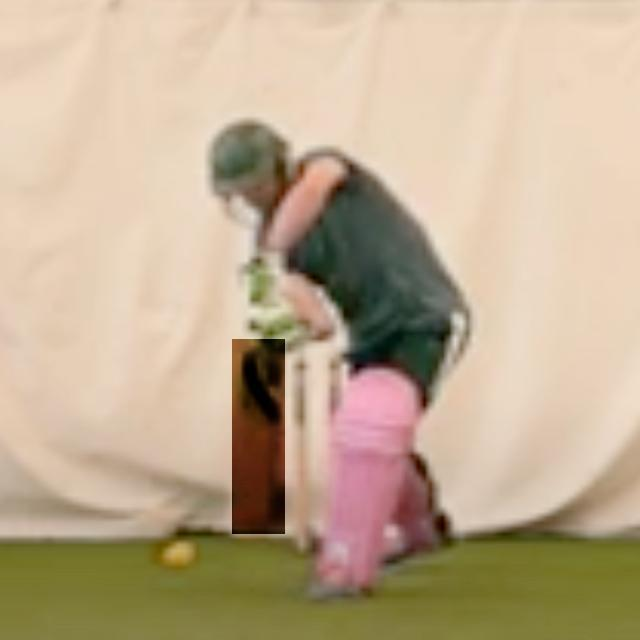bat: (233, 337, 282, 535)
